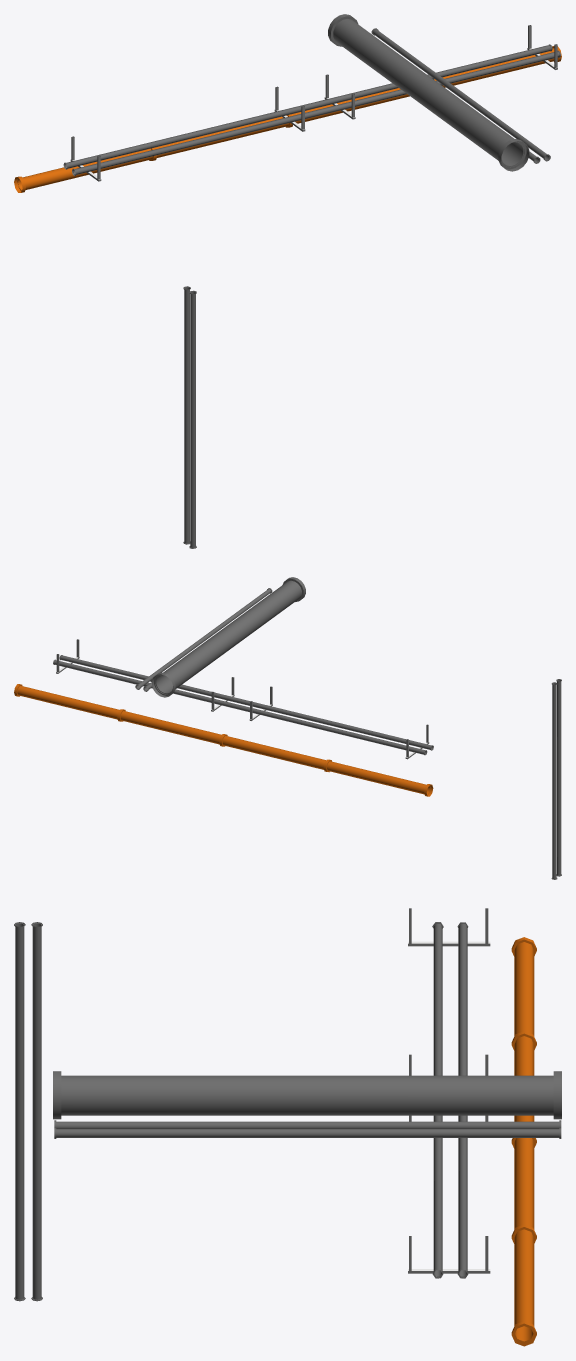
File: SM_H_Building_Tide_Corridor_07B_ATLAS.fbx
3 views of the same model, one above another, from view 1: azimuth 30°, elevation 25°; view 2: azimuth 150°, elevation 25°; view 3: azimuth 270°, elevation 25° (orthographic). The views are drawn at different scales.
Parts seen in each view (by area): view 1: SM_H_Building_Tide_Corridor_07B_ATLAS; view 2: SM_H_Building_Tide_Corridor_07B_ATLAS; view 3: SM_H_Building_Tide_Corridor_07B_ATLAS.
Boxes of the visible parts, bbox=[...] form: SM_H_Building_Tide_Corridor_07B_ATLAS: bbox=[14, 14, 561, 548]; SM_H_Building_Tide_Corridor_07B_ATLAS: bbox=[14, 577, 561, 879]; SM_H_Building_Tide_Corridor_07B_ATLAS: bbox=[14, 908, 561, 1346].
Bounding box in the file's own units: 1076 × 644 × 602.
